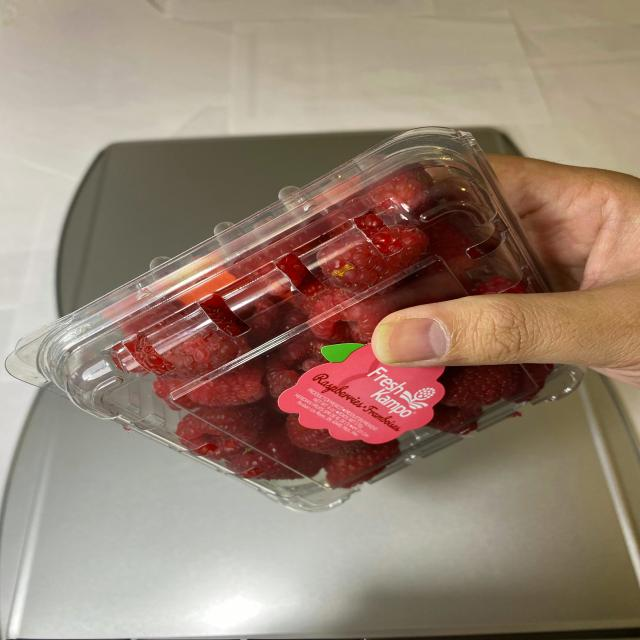raspberries: (97, 163, 521, 483)
